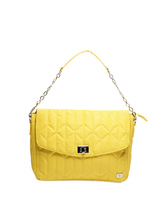bag: (18, 49, 147, 189)
